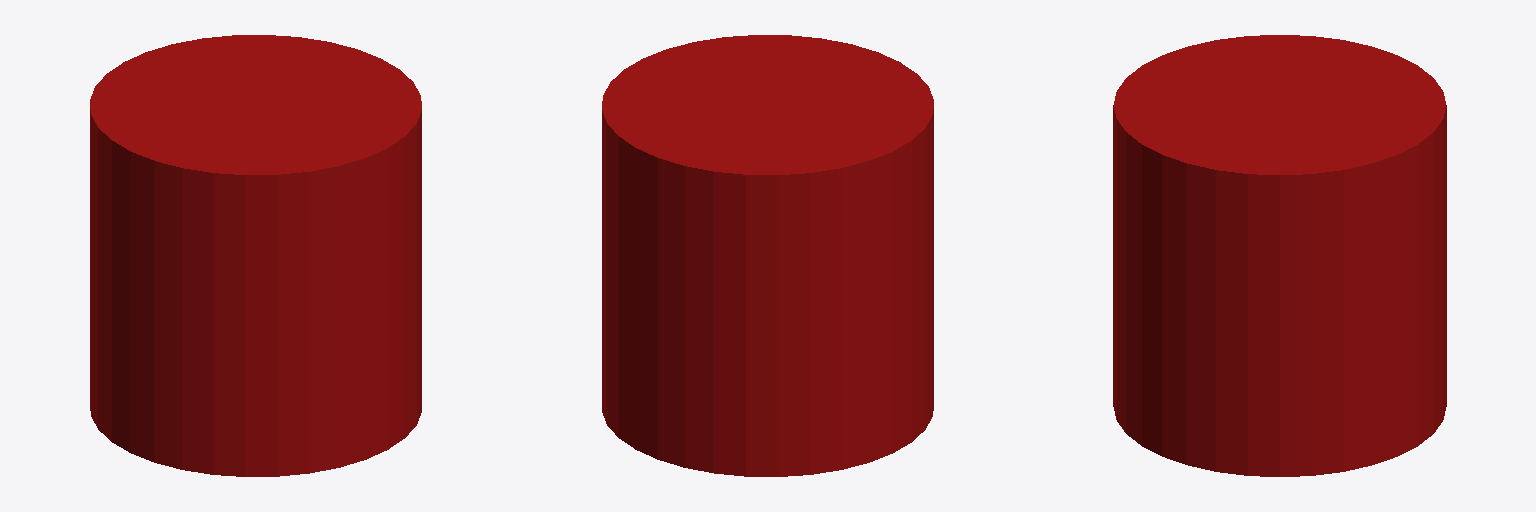
File: tower.obj
3 renders of one model, left to right at view 1: azimuth 30°, elevation 25°; view 2: azimuth 150°, elevation 25°; view 3: azimuth 270°, elevation 25°, orthographic.
Size of the model in its own units: 2 by 2 by 2.